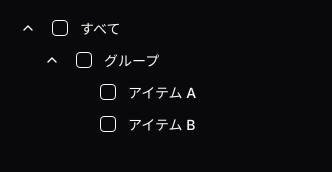
Test: Tree › 全選択が機能すること
Click the checkbox named "すべて" next to "すべて" at (60, 28), box [52,20,68,36]
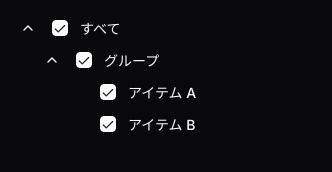
Check: the checkbox next to "すべて" is checked, box [52,20,68,36]
Check: the checkbox next to "グループ" is checked, box [76,52,92,68]
Check: the checkbox next to "アイテム A" is checked, box [100,84,116,100]
